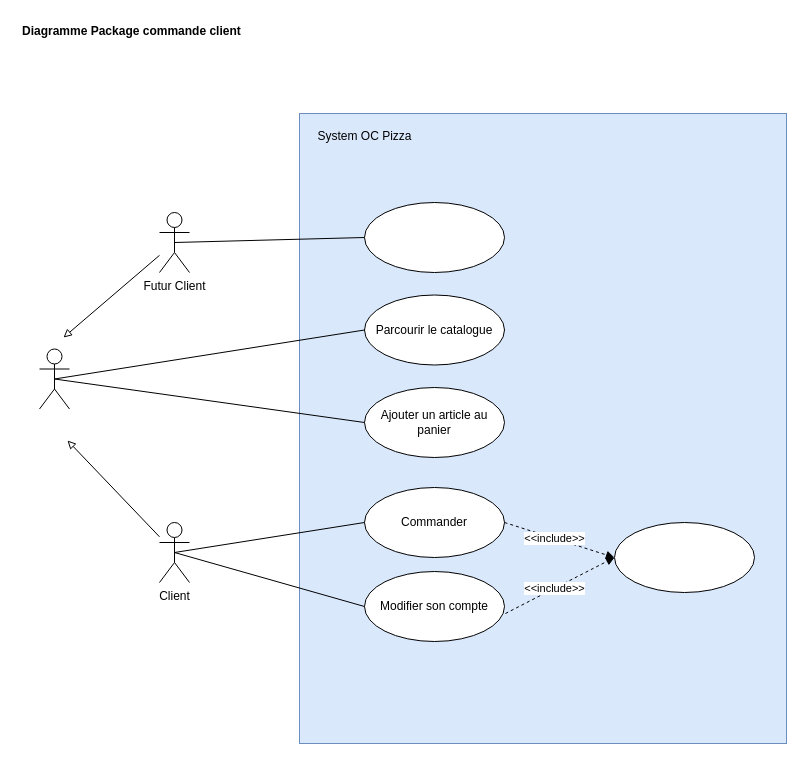
Image size: 804x761. Some labels were removed from this diagram. Each missing label, with the box of its shape:
Créer un compte: (364, 202, 504, 272)
s'identifier: (614, 522, 754, 592)
Visiteur: (38, 348, 70, 409)
